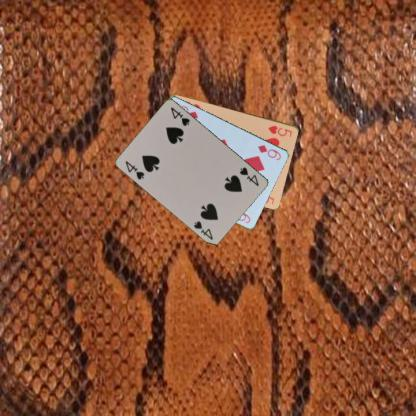4s: (237, 164, 260, 187), (123, 158, 146, 181)
5h: (266, 123, 293, 138)
6d: (256, 142, 283, 161)
